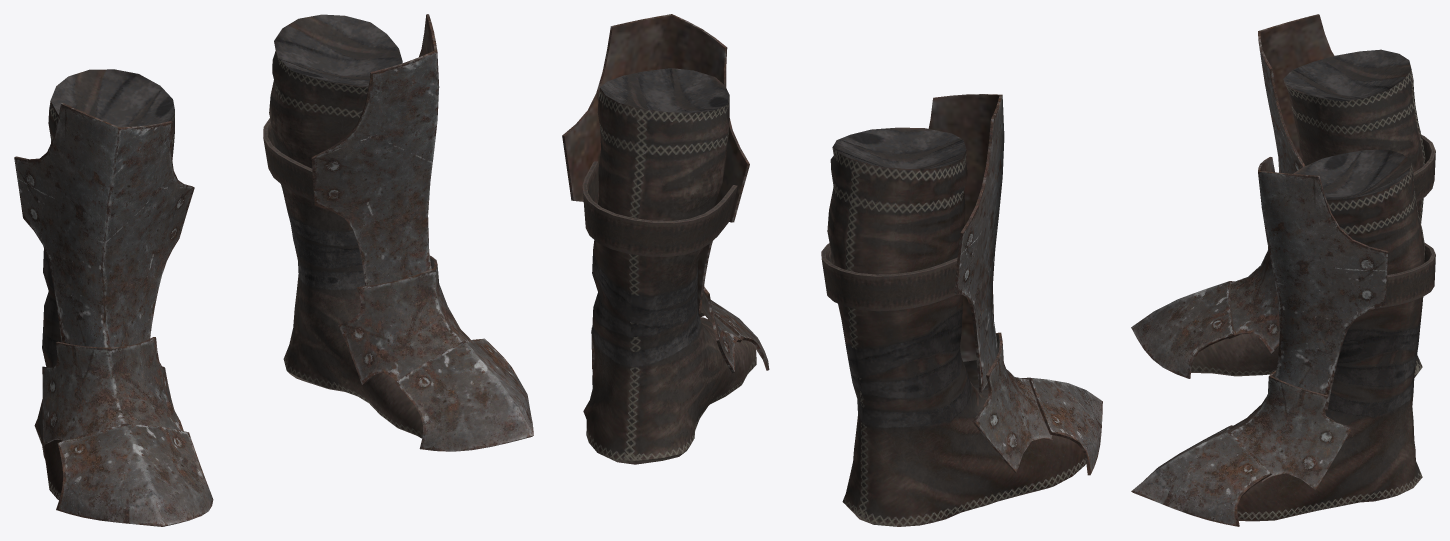
File: sk_gb_uruk_boots_heavy_d.fbx
The picture shows the model from 3 angles, left to right: view 1: azimuth 30°, elevation 25°; view 2: azimuth 150°, elevation 25°; view 3: azimuth 270°, elevation 25°; orthographic projection. The views are drawn at different scales.
Parts seen in each view (by area): view 1: sk_gb_uruk_boots_heavy_d.0, sk_gb_uruk_boots_heavy_d.1; view 2: sk_gb_uruk_boots_heavy_d.0, sk_gb_uruk_boots_heavy_d.1; view 3: sk_gb_uruk_boots_heavy_d.0, sk_gb_uruk_boots_heavy_d.1.
Part boxes in pixels (box(x1,y1,x2,y2)): sk_gb_uruk_boots_heavy_d.0: box(14, 14, 533, 526); sk_gb_uruk_boots_heavy_d.1: box(263, 118, 314, 201); sk_gb_uruk_boots_heavy_d.0: box(562, 14, 1102, 526); sk_gb_uruk_boots_heavy_d.1: box(582, 161, 957, 311); sk_gb_uruk_boots_heavy_d.0: box(1131, 14, 1425, 526); sk_gb_uruk_boots_heavy_d.1: box(1376, 135, 1435, 308).
Size of the model in its own units: 0.5801 by 0.3624 by 0.4367.
Materials: 2 (2 with a texture image).
